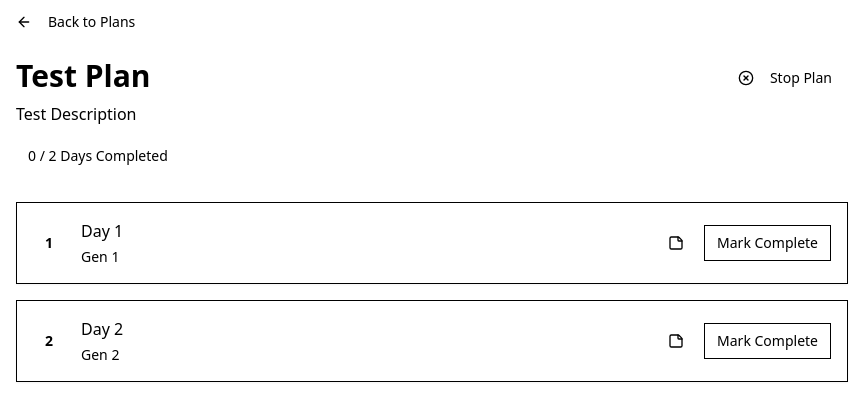
Test: ReadingPlanDetail › handles marking day as complete
Expected: the heading "Test Plan" is shown, left=16, top=58, right=151, bottom=94
Click the 1st button "Mark Complete" at (768, 243), box left=704, top=225, right=831, bottom=261
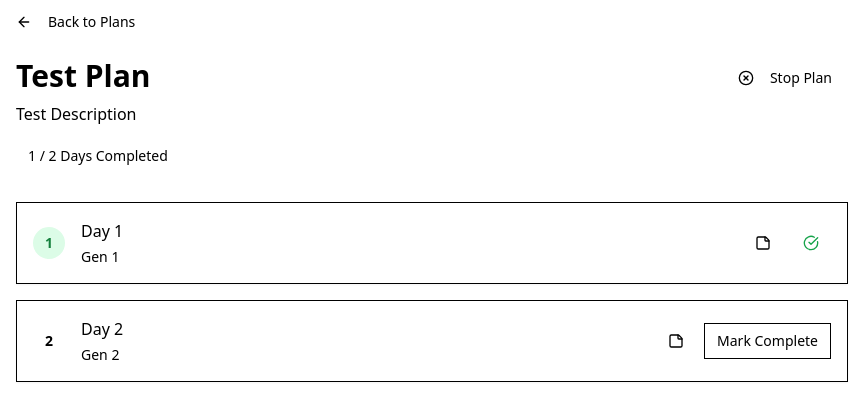
Expected: the text "1 / 2 Days Completed" is shown, left=16, top=142, right=180, bottom=170
